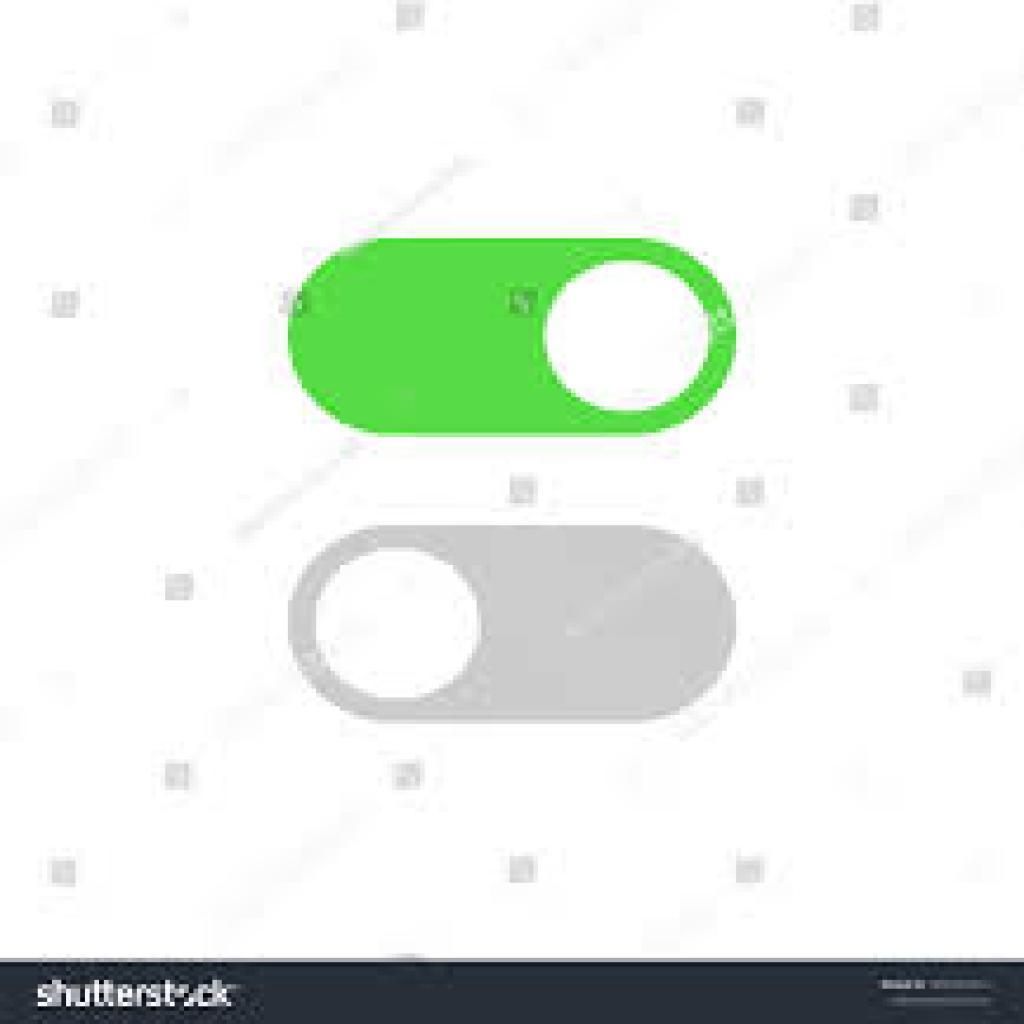switch: (292, 237, 736, 440), (289, 524, 739, 721)
